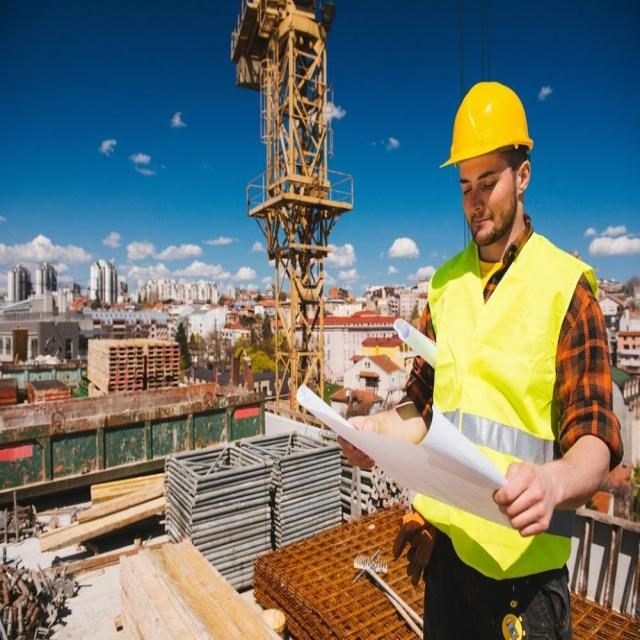Reflective-Jacket: (411, 235, 598, 576)
Safety-Helmet: (439, 75, 536, 173)
